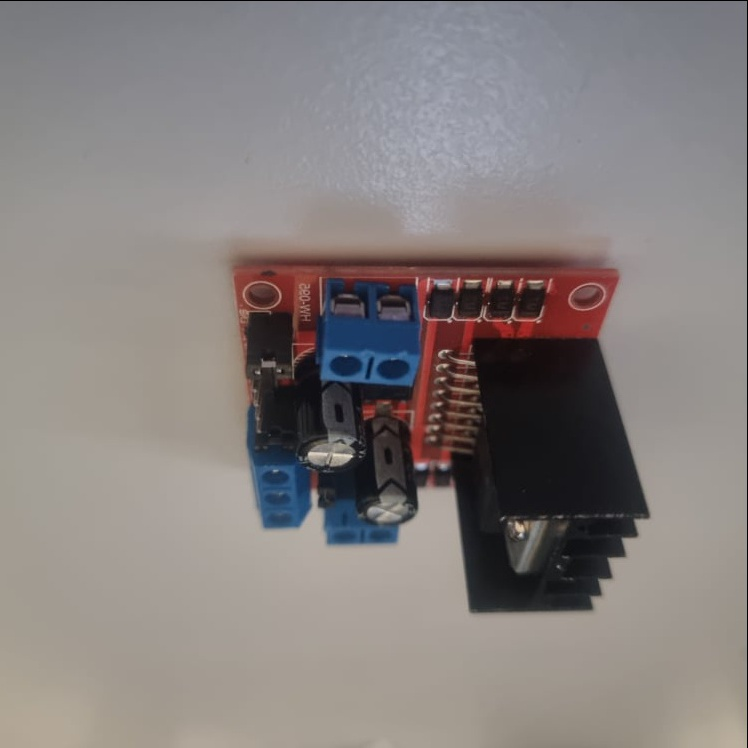MOTOR: (234, 264, 650, 615)
